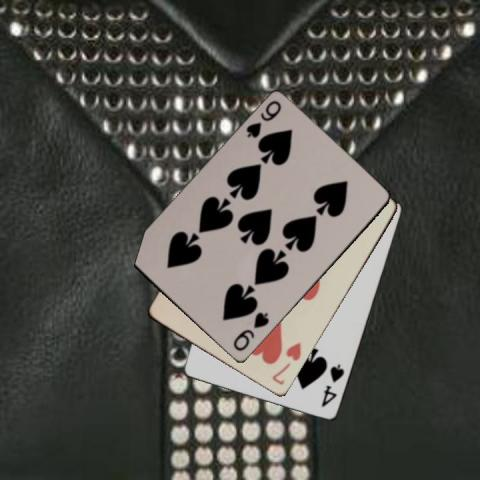4s: (319, 361, 346, 409)
7h: (269, 340, 303, 388)
9s: (230, 310, 271, 354), (243, 97, 282, 140)
